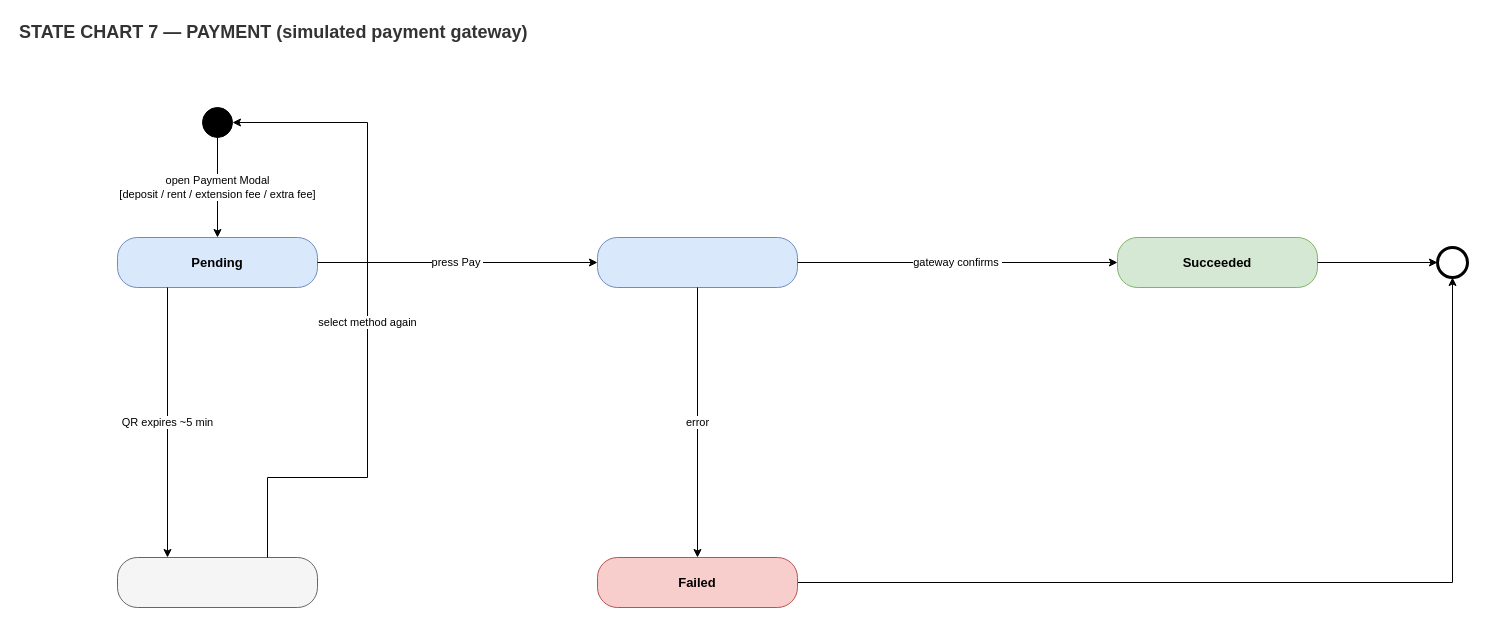
Some shapes in this 1486 by 625 pixel diagram are drawn without their labels. The centre of each missing label's shape, as x and y in pixels:
"Expired" belongs at (x=217, y=582).
"Processing" belongs at (x=697, y=262).
